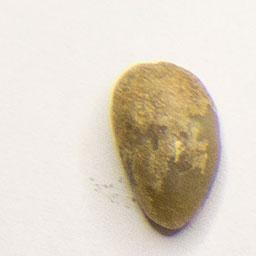longberry: (105, 56, 226, 235)
